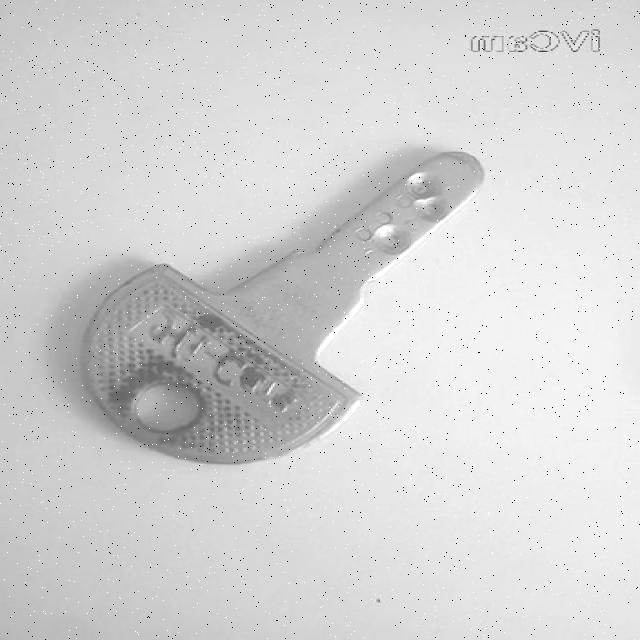key: (84, 152, 484, 464)
